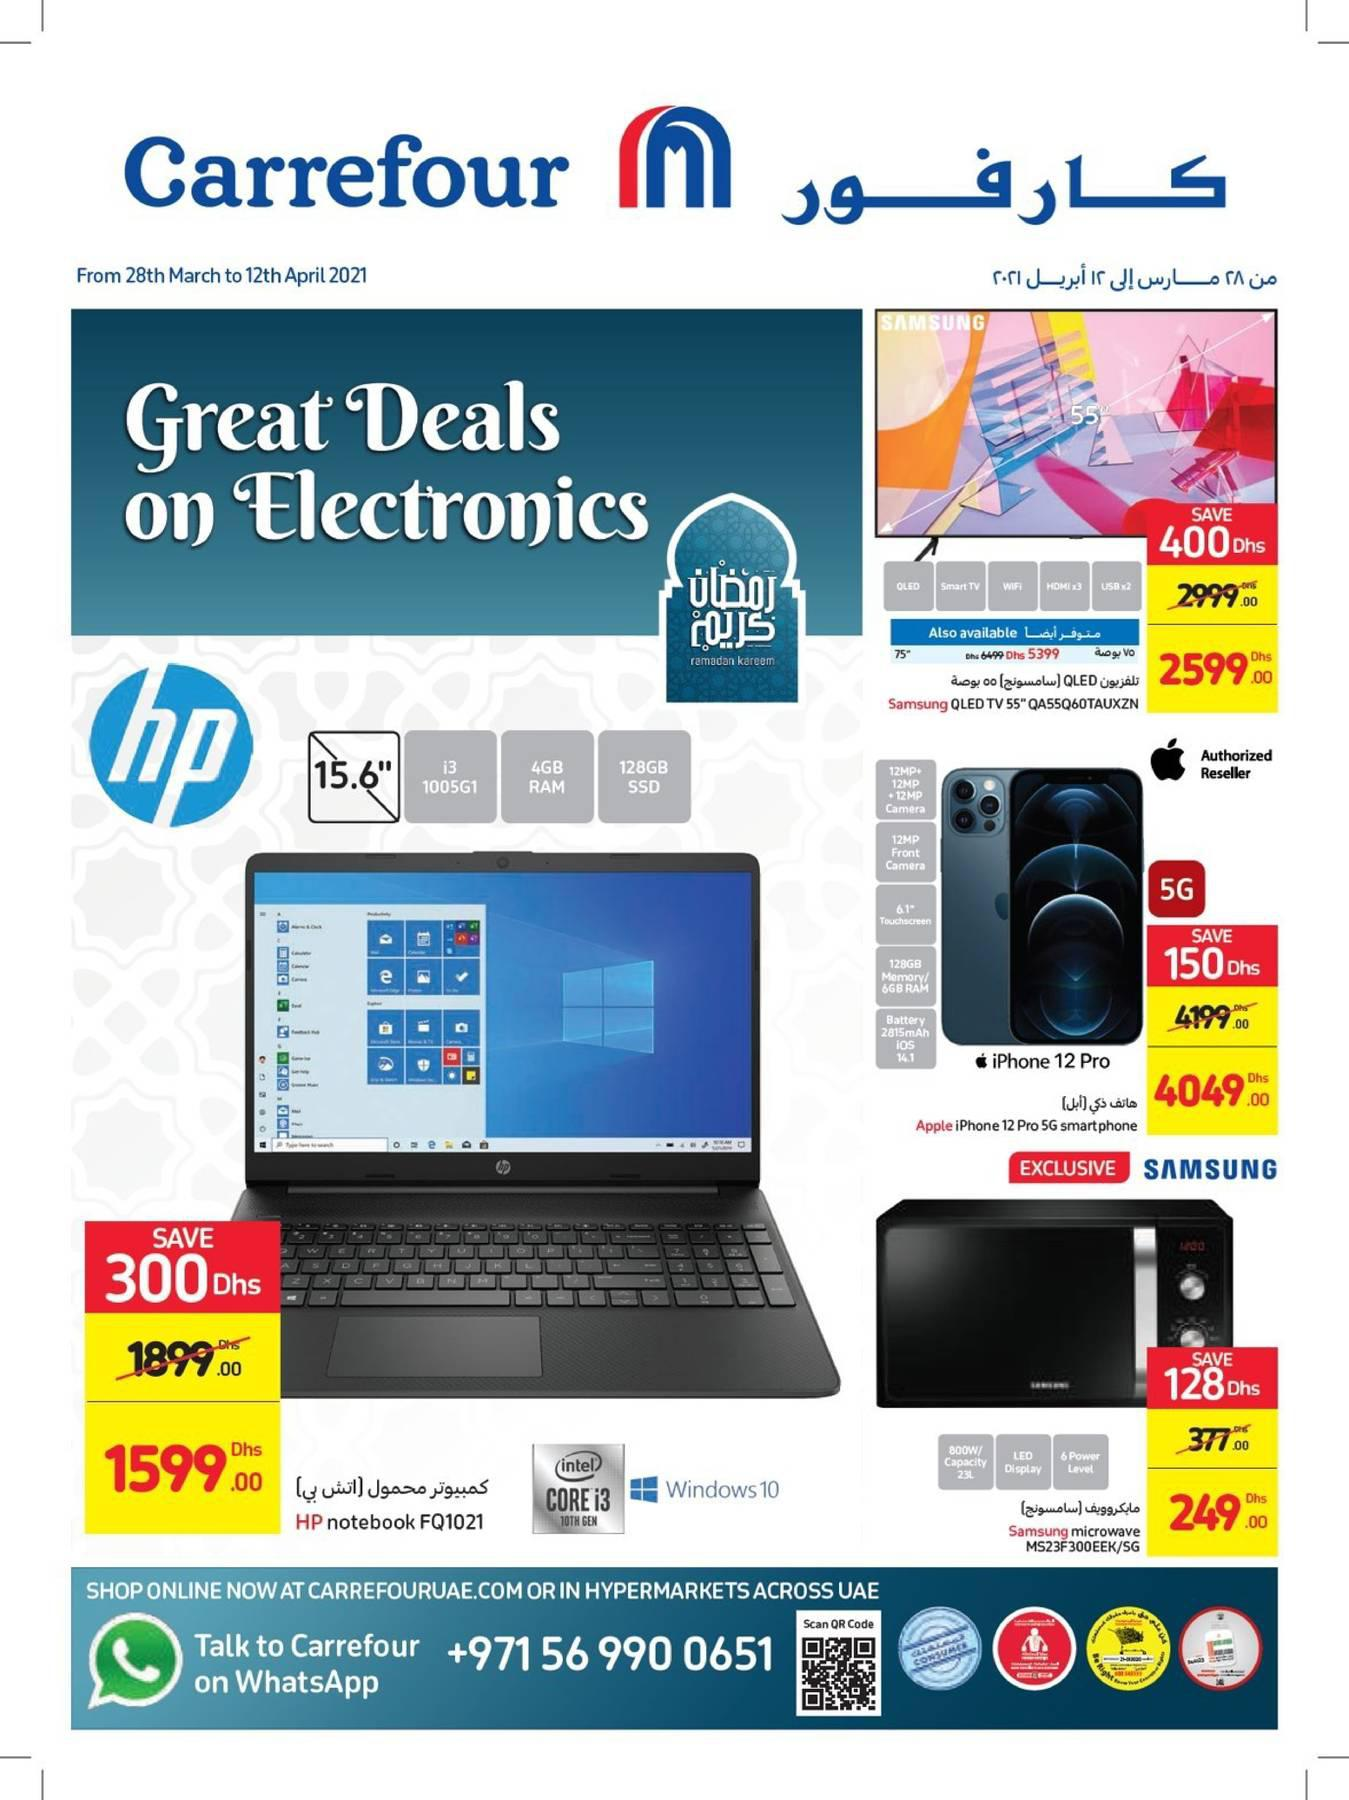text: (288, 1470, 502, 1546), (884, 669, 1144, 719), (907, 1086, 1142, 1140), (992, 1497, 1144, 1560)
